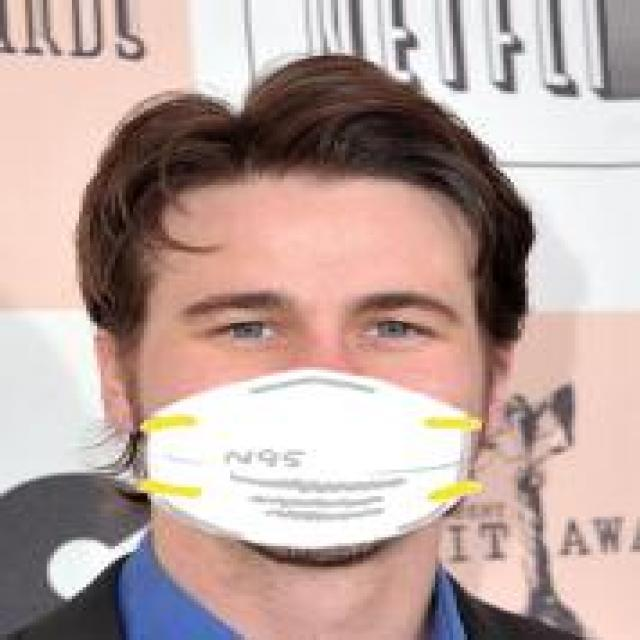mask: (58, 106, 576, 552)
